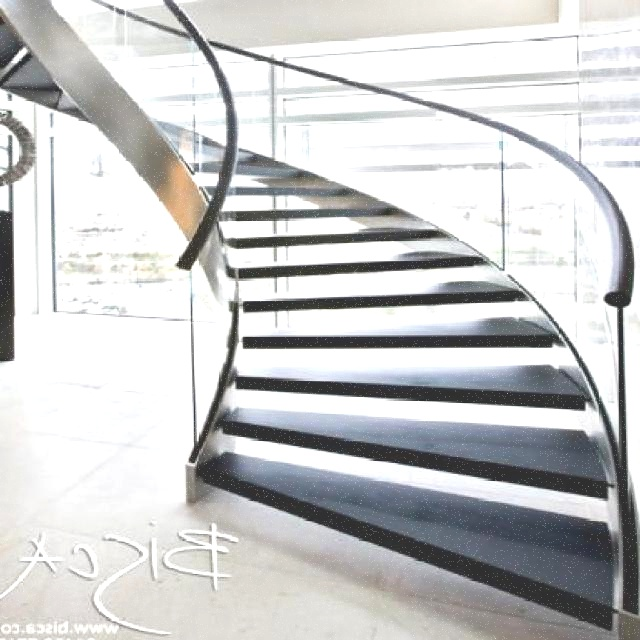stair: (186, 0, 640, 634)
